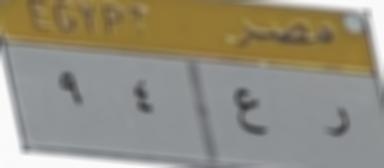4: (127, 75, 158, 120)
9: (52, 68, 86, 110)
ain: (225, 78, 270, 142)
raa: (312, 100, 354, 149)
